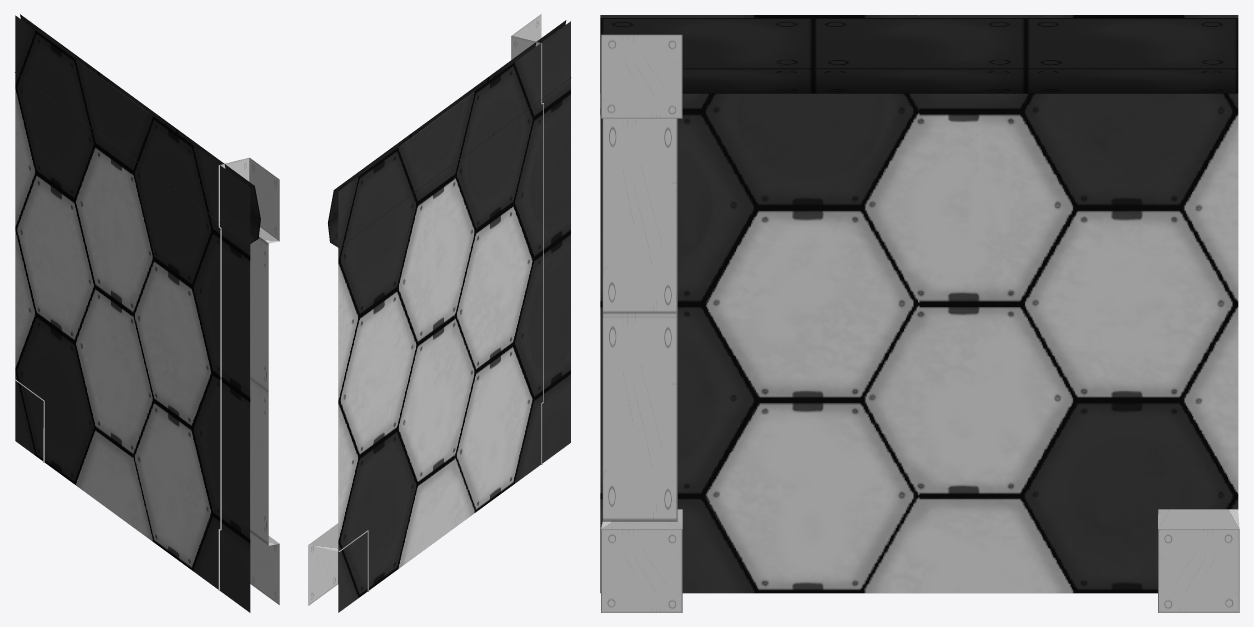
File: Wall_TopLeftLCorner.fbx
3 views of the same model, side by side, from view 1: azimuth 30°, elevation 25°; view 2: azimuth 150°, elevation 25°; view 3: azimuth 270°, elevation 25° (orthographic). The views are drawn at different scales.
Parts seen in each view (by area): view 1: pPlane139; view 2: pPlane139; view 3: pPlane139.
Boxes of the visible parts, x1,y1,x2,y2 form: pPlane139: [14, 14, 279, 612]; pPlane139: [308, 14, 571, 612]; pPlane139: [600, 15, 1239, 612].
Bounding box in the file's own units: 0.1534 × 2 × 2.
